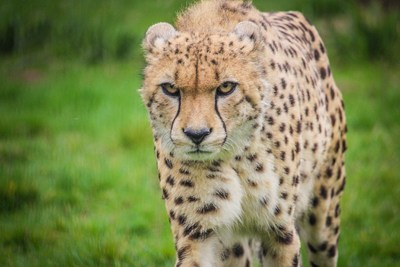cheetah: (137, 16, 274, 165)
